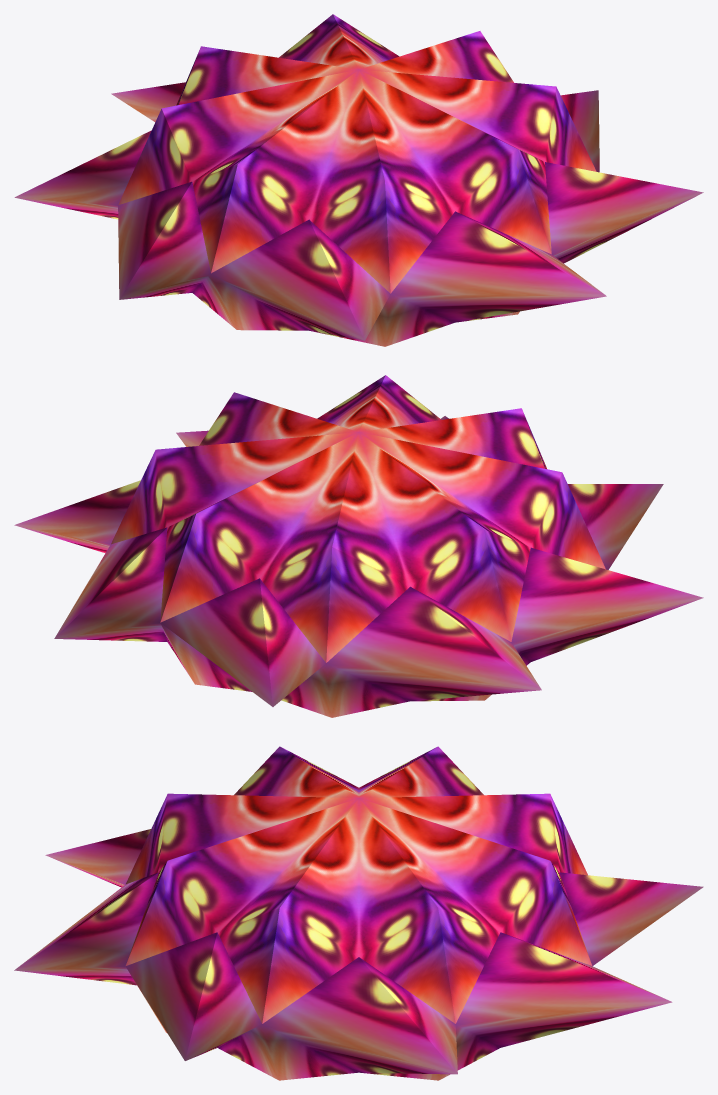
The model's file is ufo-09.fbx.
3 views of the same model, one above another, from view 1: azimuth 30°, elevation 25°; view 2: azimuth 150°, elevation 25°; view 3: azimuth 270°, elevation 25° (orthographic). The views are drawn at different scales.
Parts seen in each view (by area): view 1: ufo-09; view 2: ufo-09; view 3: ufo-09.
Boxes of the visible parts, x1=… form: ufo-09: x1=14, y1=14, x2=703, y2=346; ufo-09: x1=14, y1=375, x2=703, y2=717; ufo-09: x1=14, y1=746, x2=703, y2=1080.
Size of the model in its own units: 67.5 by 26.03 by 67.5.
